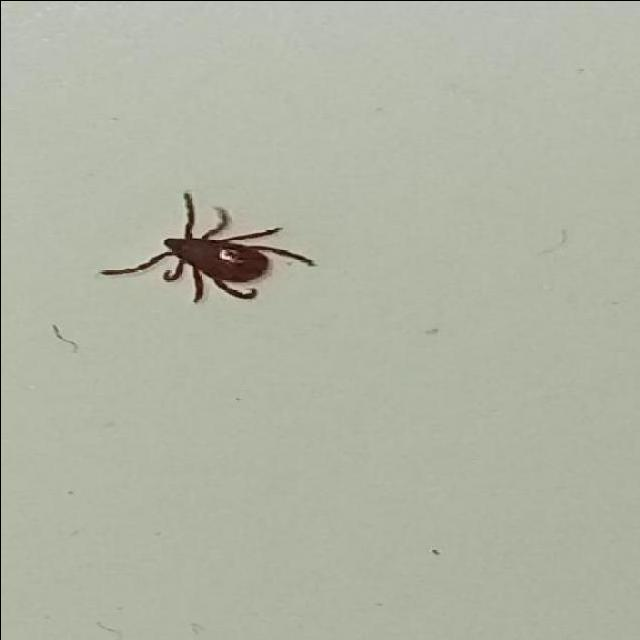Rhipicephalus Sanguineus-M: (97, 188, 316, 301)
